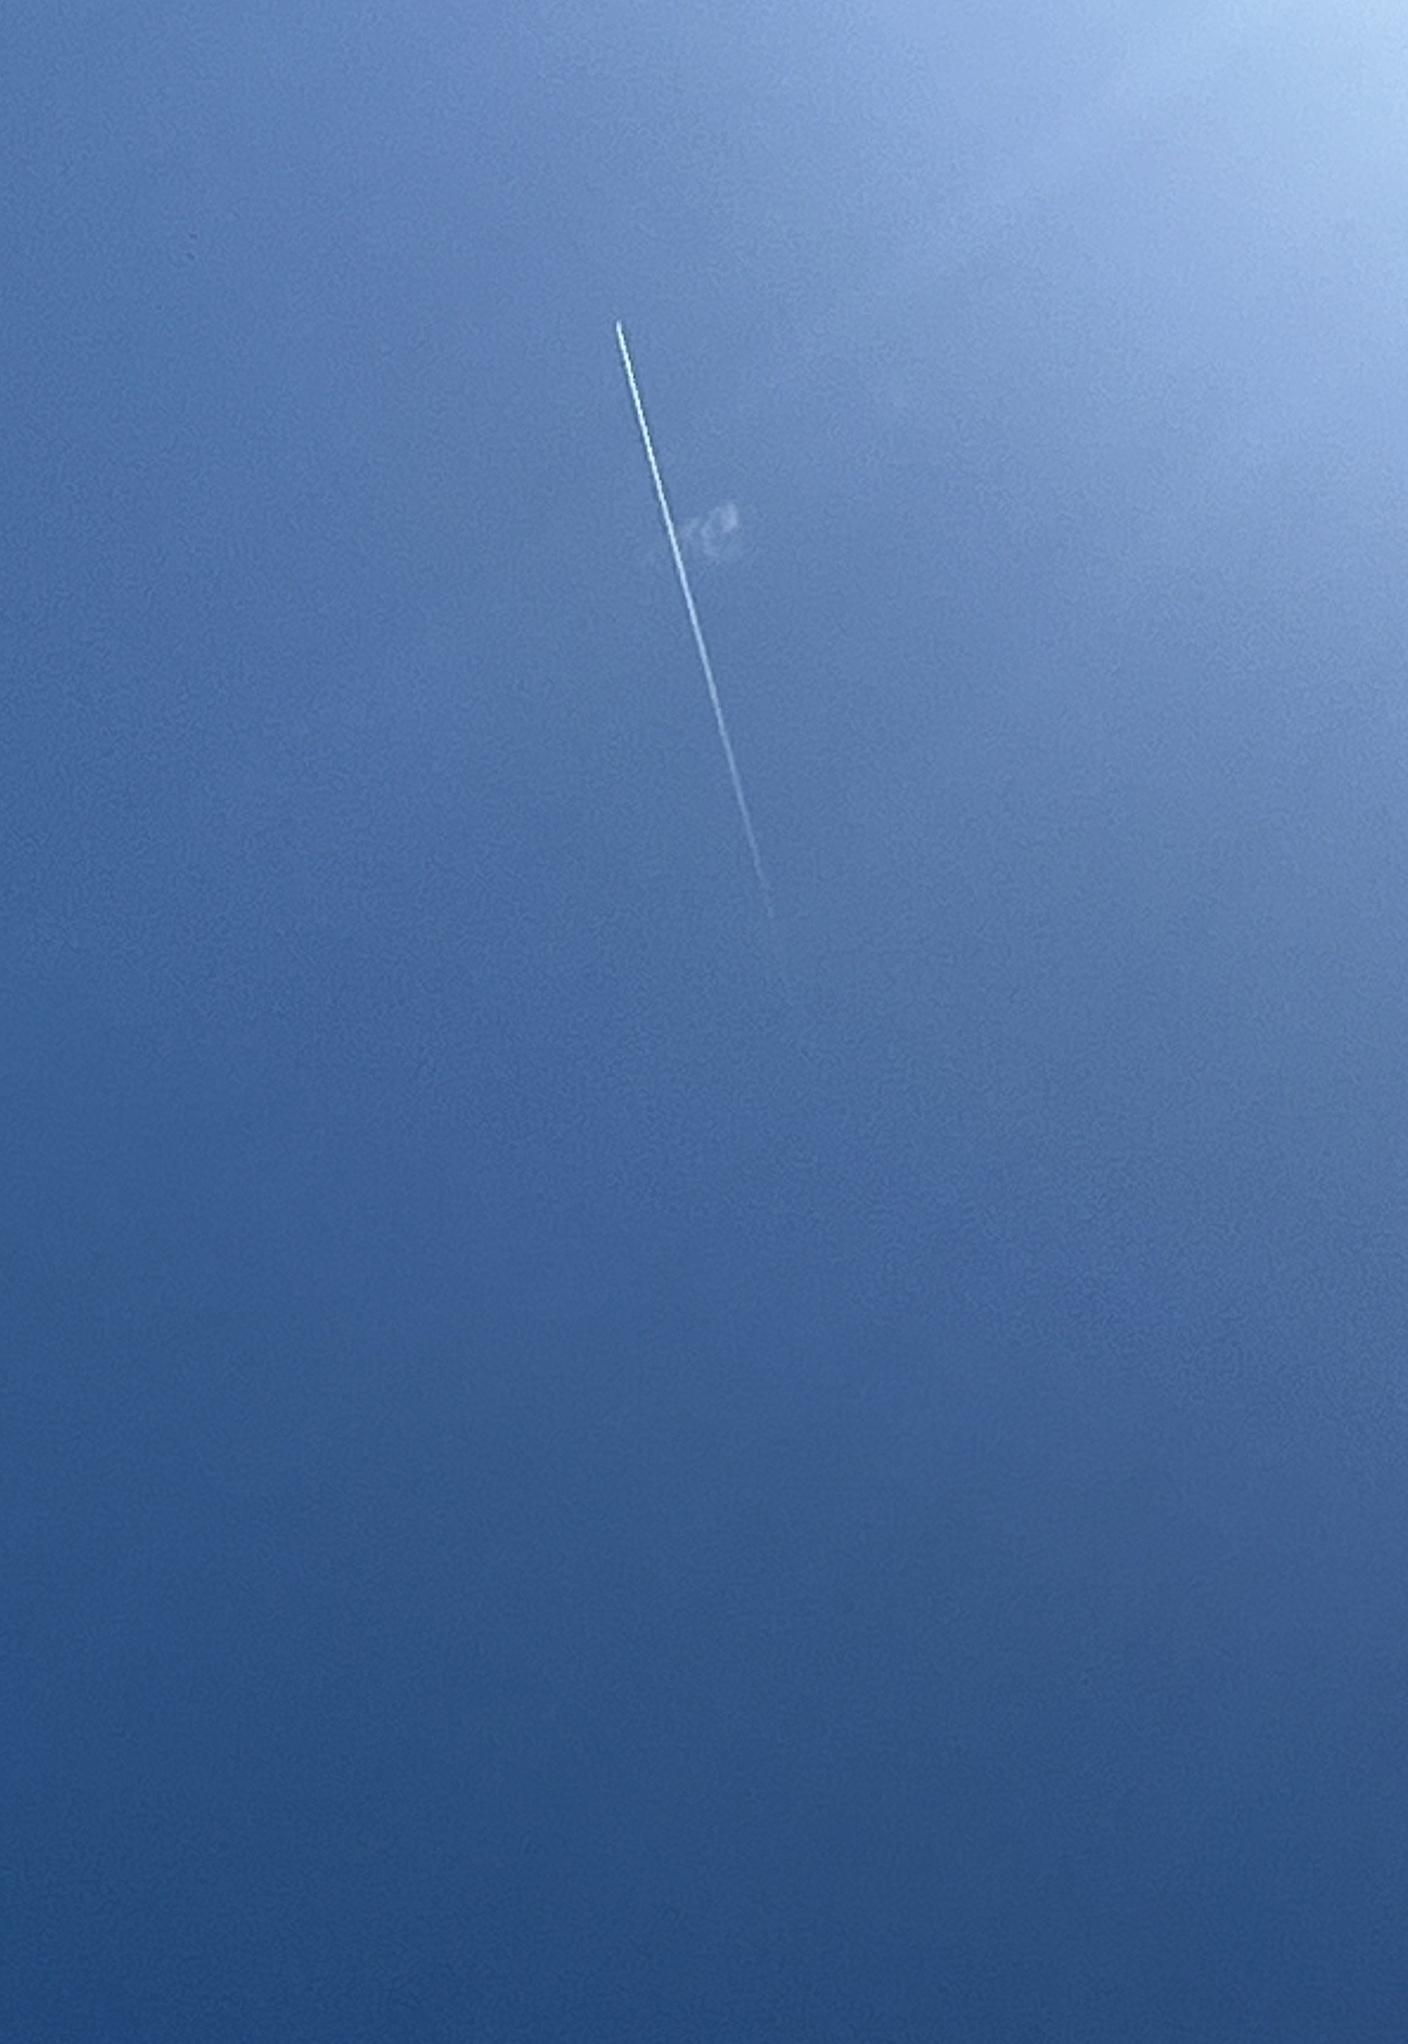Plane: (548, 295, 817, 923)
